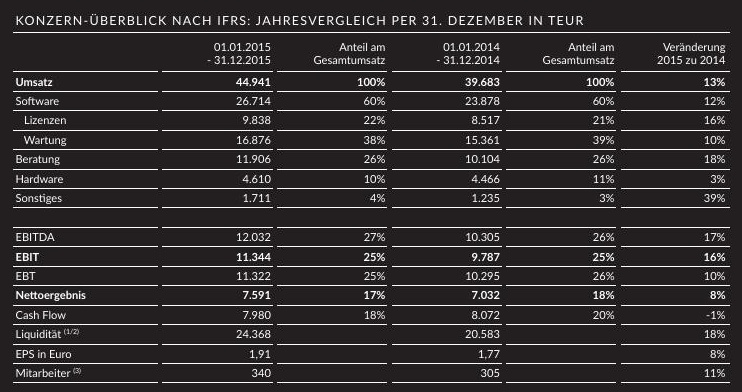table: (0, 0, 742, 392)
